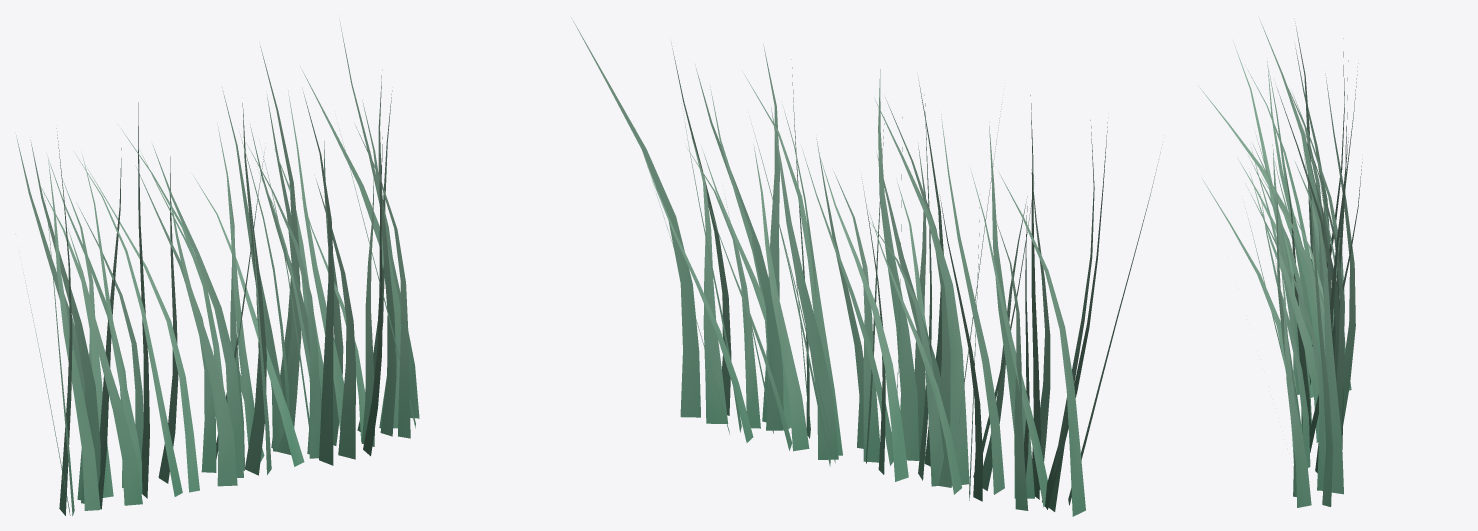
File: mesh-plant-001-riverblade-green_LOD1.glb
The picture shows the model from 3 angles, left to right: view 1: azimuth 30°, elevation 25°; view 2: azimuth 150°, elevation 25°; view 3: azimuth 270°, elevation 25°; orthographic projection. The views are drawn at different scales.
Parts seen in each view (by area): view 1: geometry_0; view 2: geometry_0; view 3: geometry_0.
Part boxes in pixels (x1,y1,x2,y2): geometry_0: (16, 20, 419, 515); geometry_0: (571, 17, 1160, 516); geometry_0: (1200, 20, 1362, 507).
Size of the model in its own units: 2.72 by 1.8 by 1.28.
